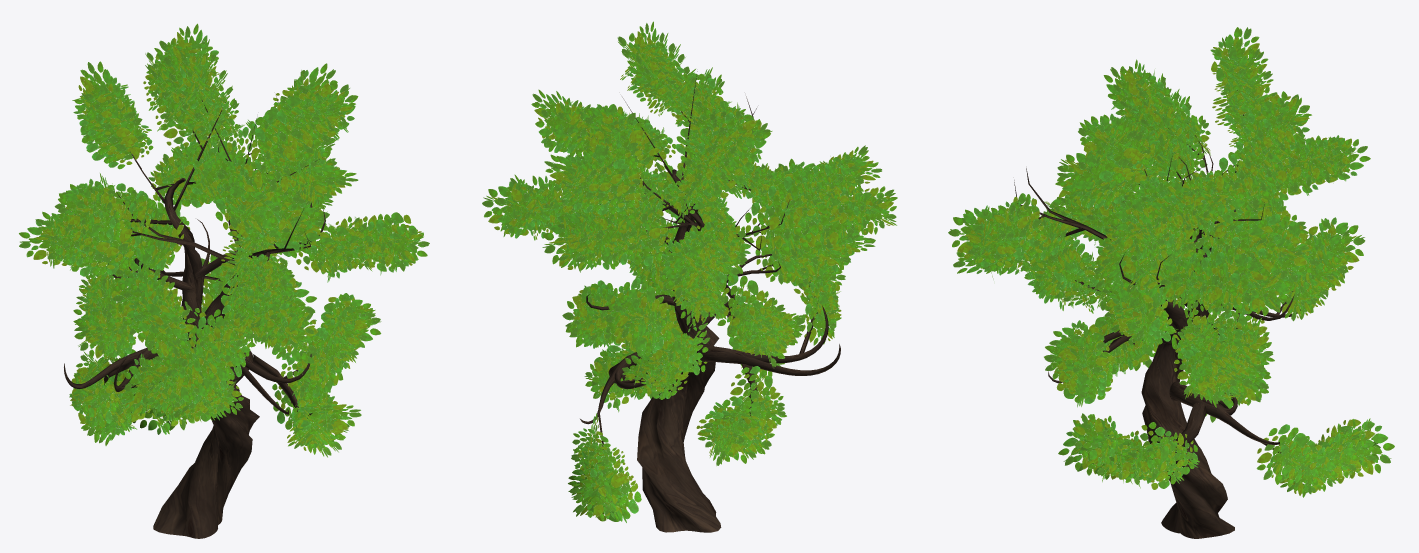
The model's file is Tree_04.fbx.
3 renders of one model, left to right at view 1: azimuth 30°, elevation 25°; view 2: azimuth 150°, elevation 25°; view 3: azimuth 270°, elevation 25°, orthographic. The views are drawn at different scales.
Visible parts, largest first — view 1: Leaves_04, Tree_04; view 2: Leaves_04, Tree_04; view 3: Leaves_04, Tree_04.
Part boxes in pixels (<box>): Leaves_04: <box>19,23,429,457</box>; Tree_04: <box>64,96,334,538</box>; Leaves_04: <box>482,21,897,522</box>; Tree_04: <box>580,71,840,532</box>; Leaves_04: <box>948,27,1394,497</box>; Tree_04: <box>1014,90,1300,538</box>.
Size of the model in its own units: 1994 by 2368 by 2112.
